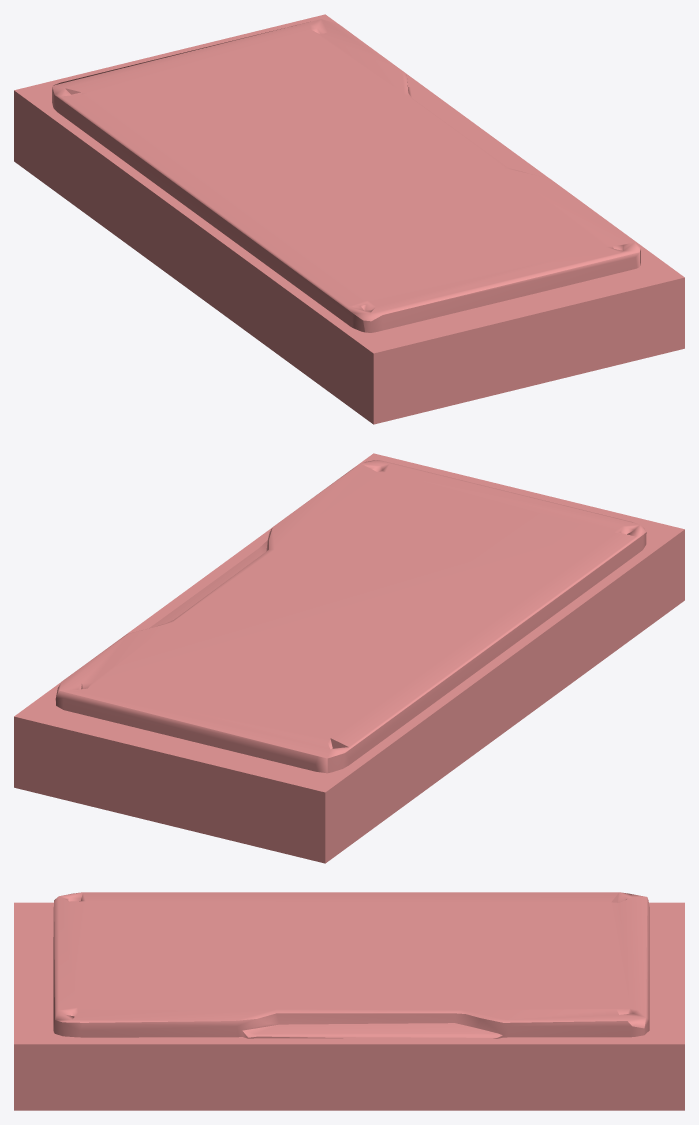
The model's file is ComplexWall_2x1_01_Final.fbx.
3 renders of one model, top to bottom at view 1: azimuth 30°, elevation 25°; view 2: azimuth 150°, elevation 25°; view 3: azimuth 270°, elevation 25°, orthographic. The views are drawn at different scales.
Visible parts, largest first — view 1: Final_ComplexWall_2x1_01; view 2: Final_ComplexWall_2x1_01; view 3: Final_ComplexWall_2x1_01.
Boxes of the visible parts, left/top/right/bottom form: Final_ComplexWall_2x1_01: left=14, top=14, right=684, bottom=424; Final_ComplexWall_2x1_01: left=14, top=453, right=684, bottom=863; Final_ComplexWall_2x1_01: left=14, top=892, right=684, bottom=1110.
Size of the model in its own units: 100 by 27.08 by 200.
